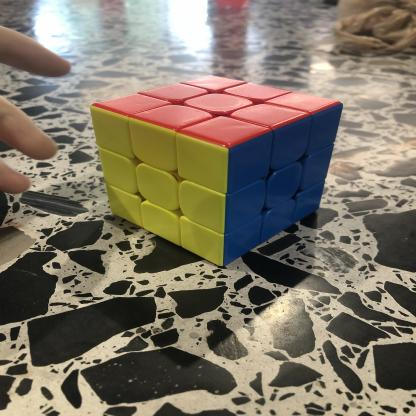SolvedCube: (79, 53, 354, 263)
